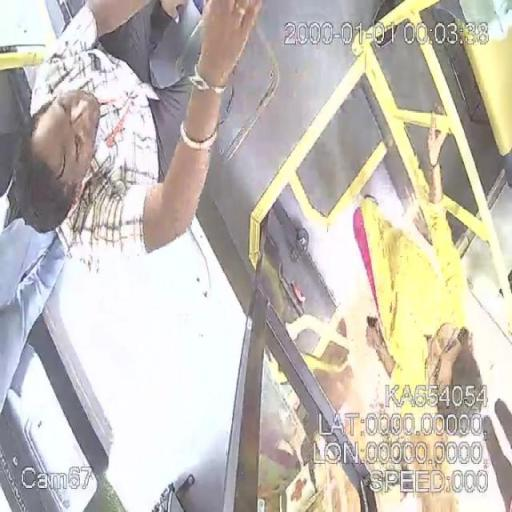persona: (1, 0, 263, 260), (329, 114, 490, 444)
